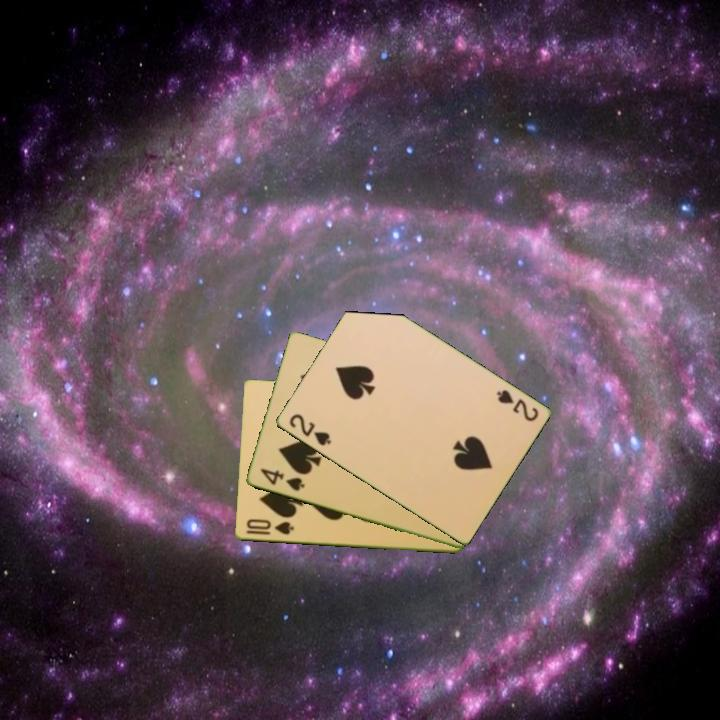10s: (243, 516, 297, 538)
2s: (285, 410, 334, 449), (492, 386, 541, 424)
4s: (256, 465, 307, 494)
